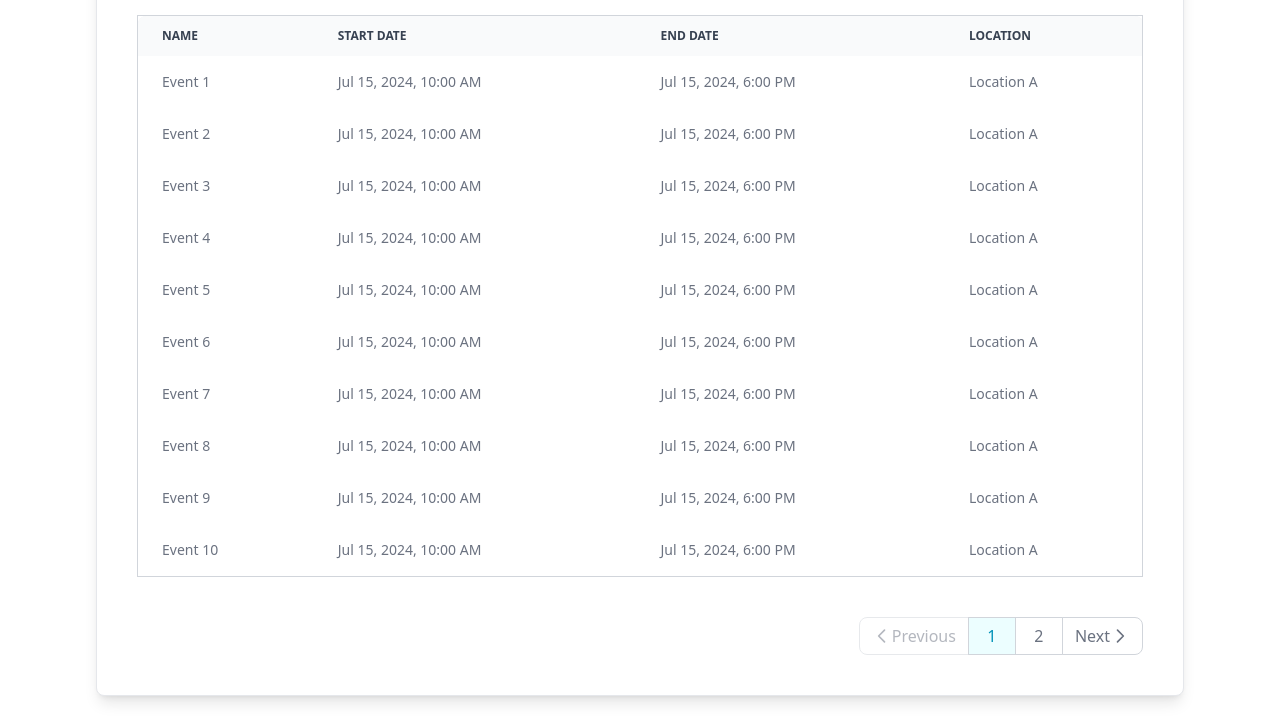
Test case: Events Page › fetches and displays next page of events when Next button or page number is clicked
This screenshot has width=1280, height=720.
(page scrolled)
Expected: the text "Event 1" is shown, [138,56,314,108]
Expected: the text "Event 10" is shown, [138,524,314,576]
Click Next button in pagination
Click the button "Next": click(1102, 636) [1062,617,1143,655]
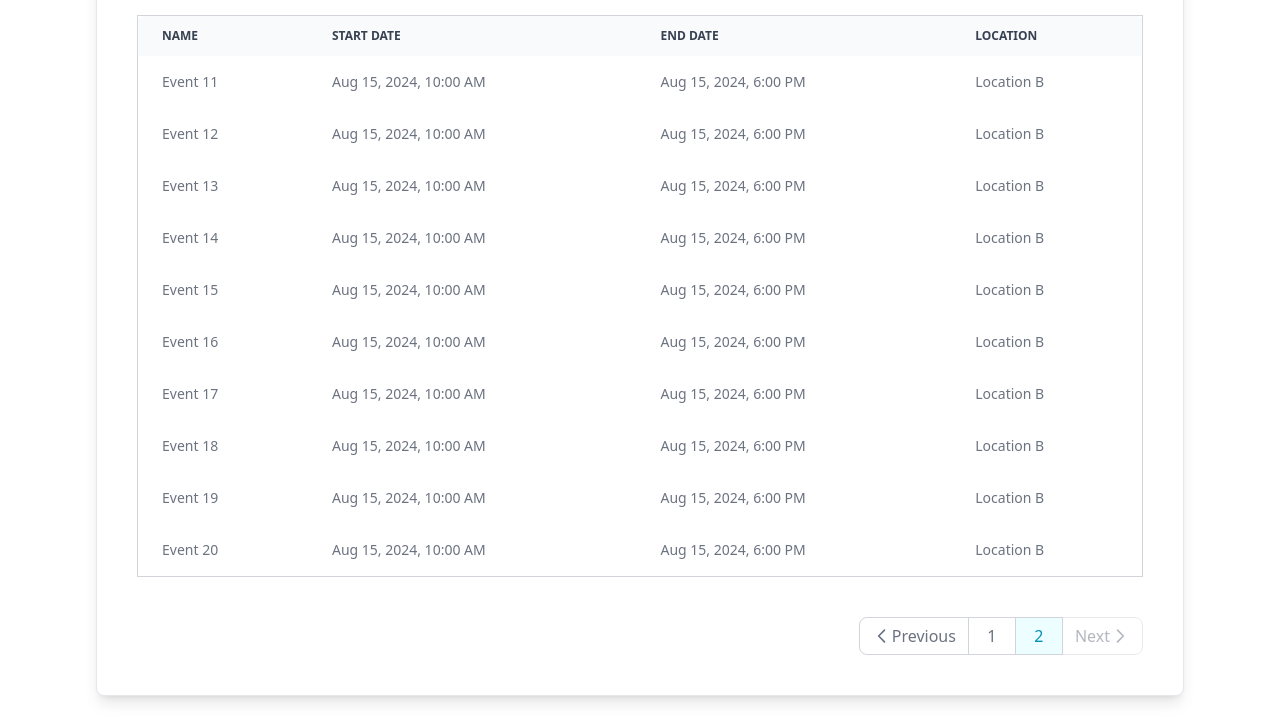
Result: the text "Event 11" is shown at [138,56,308,108]
Result: the text "Event 20" is shown at [138,524,308,576]
Click on page number 1 button
Click the button "1": click(992, 636) [968,617,1016,655]
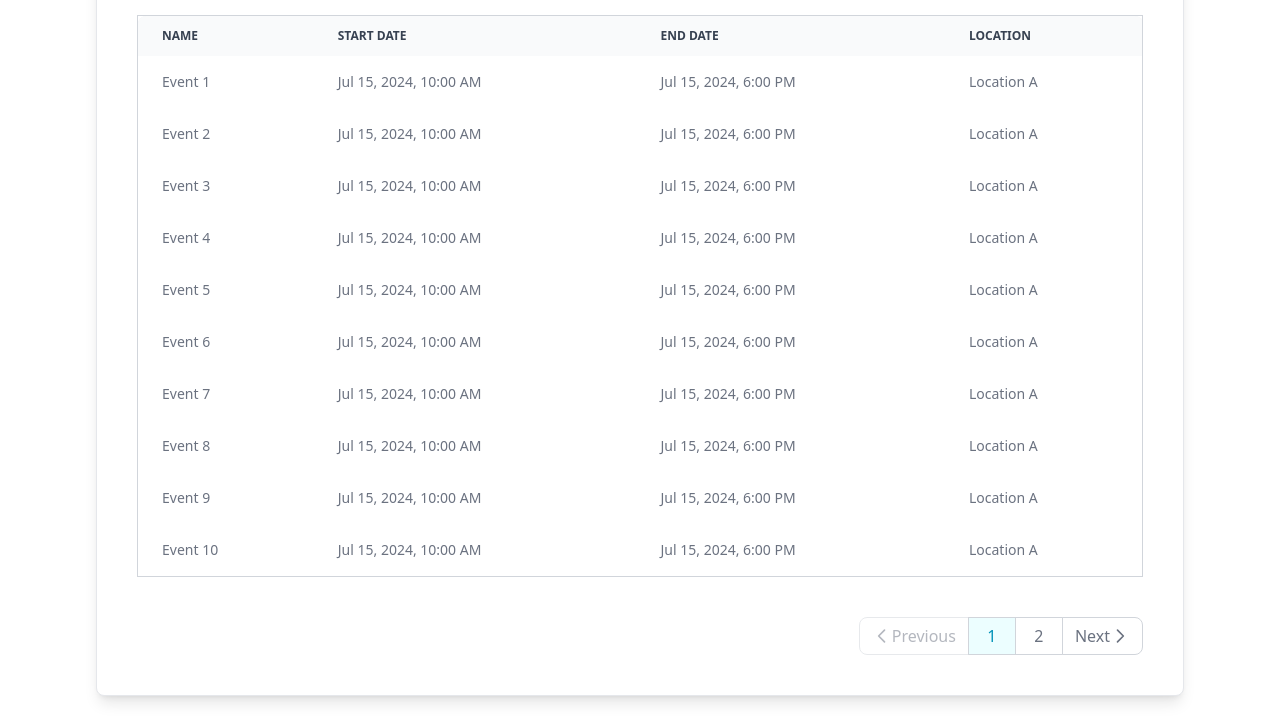
Expected: the text "Event 1" is shown, [138,56,314,108]
Result: the text "Event 7" is shown at [138,368,314,420]
Result: the text "Event 14" is gone
